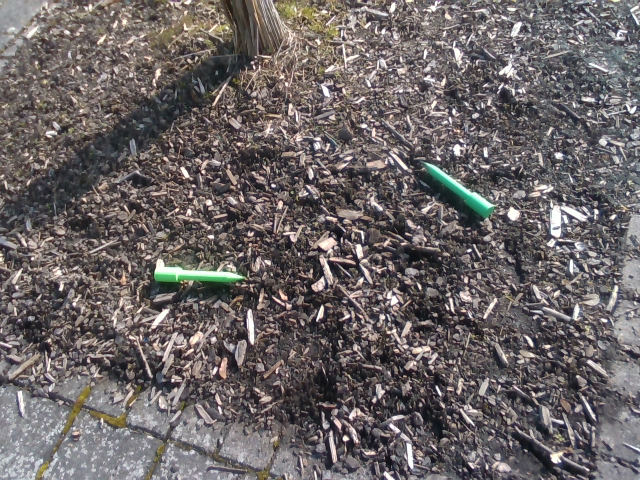Probe: (413, 152, 502, 225), (146, 258, 253, 290)
